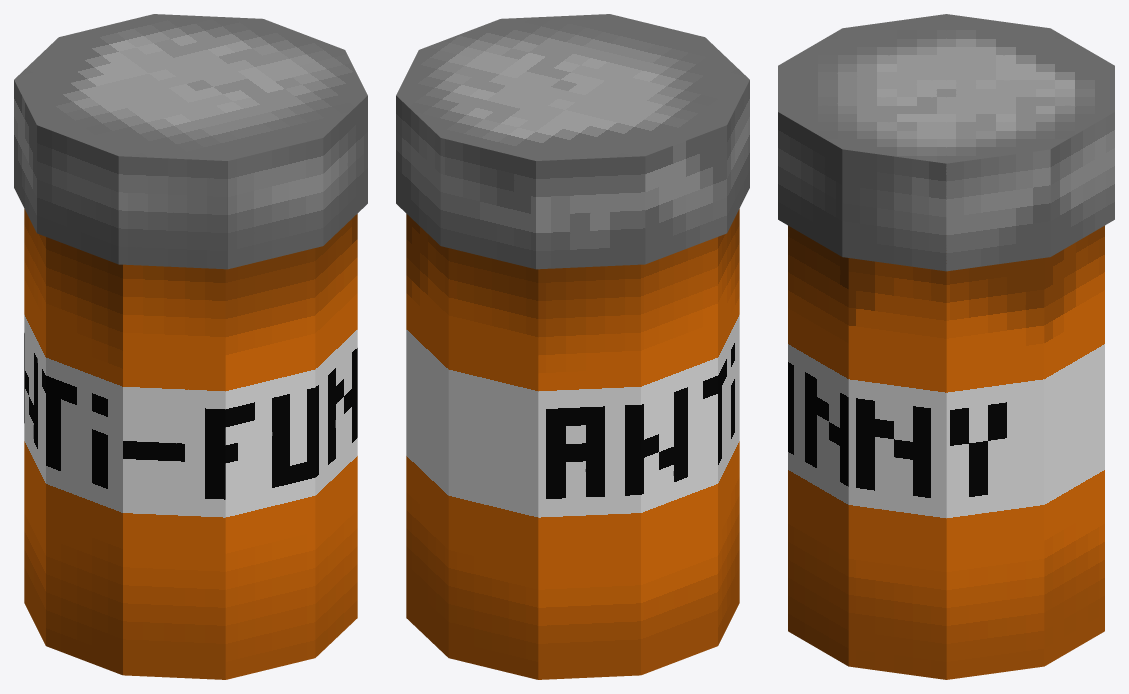
The model's file is pills.glb.
3 views of the same model, side by side, from view 1: azimuth 30°, elevation 25°; view 2: azimuth 150°, elevation 25°; view 3: azimuth 270°, elevation 25° (orthographic).
Parts seen in each view (by area): view 1: cylinder_0, cylinder_1; view 2: cylinder_0, cylinder_1; view 3: cylinder_0, cylinder_1.
Part boxes in pixels (x1=…): cylinder_0: x1=24, y1=209, x2=357, y2=679; cylinder_1: x1=14, y1=14, x2=367, y2=269; cylinder_0: x1=406, y1=209, x2=739, y2=679; cylinder_1: x1=396, y1=14, x2=749, y2=269; cylinder_0: x1=788, y1=225, x2=1104, y2=679; cylinder_1: x1=778, y1=14, x2=1114, y2=271.
Bounding box in the file's own units: 0.3005 × 0.4875 × 0.2858.
Materials: 2 (2 with a texture image).
